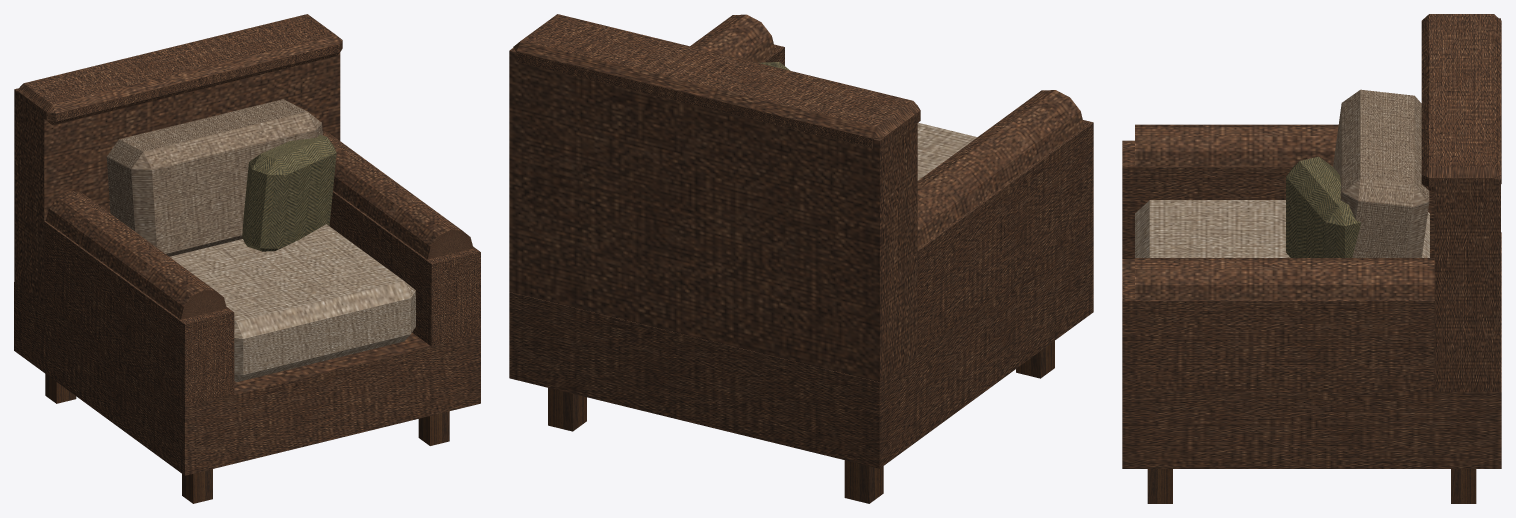
The model's file is armchair.glb.
3 renders of one model, left to right at view 1: azimuth 30°, elevation 25°; view 2: azimuth 150°, elevation 25°; view 3: azimuth 270°, elevation 25°, orthographic. The views are drawn at different scales.
Visible parts, largest first — view 1: core_armchair; view 2: core_armchair; view 3: core_armchair.
Boxes of the visible parts, x1,y1,x2,y2 form: core_armchair: [14, 14, 480, 503]; core_armchair: [509, 14, 1093, 503]; core_armchair: [1122, 14, 1501, 503].
Bounding box in the file's own units: 0.9 × 0.9 × 0.9.
1 material, 1 textured.
